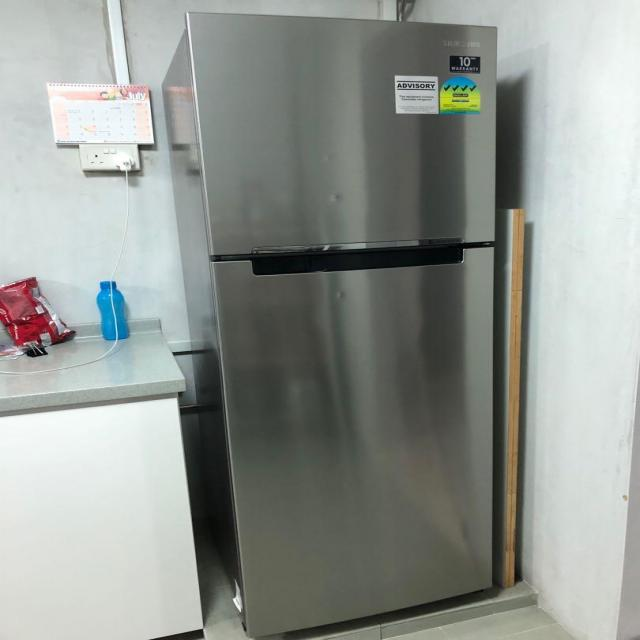refrigerator: (184, 10, 498, 640)
